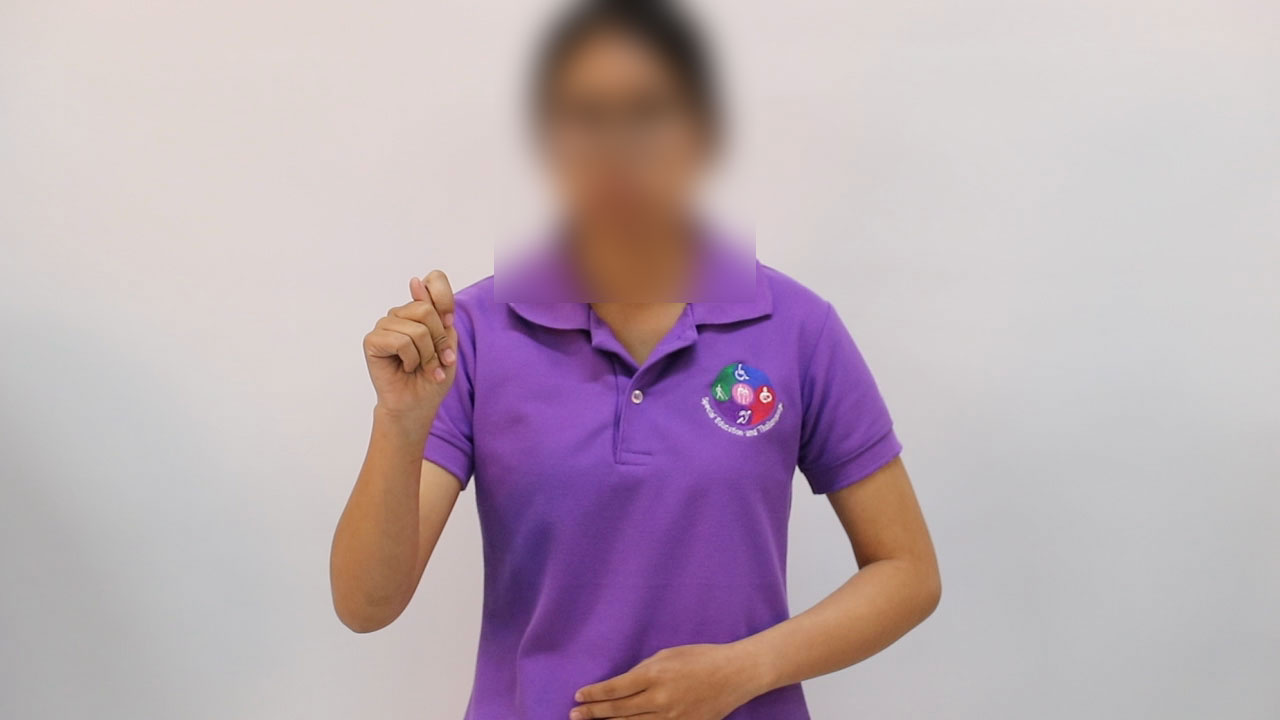tor: (339, 249, 506, 436)
